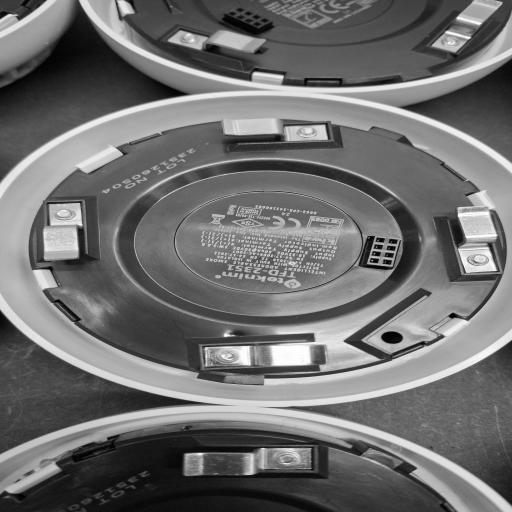konnektor: (354, 230, 412, 282)
yaysiz: (186, 327, 348, 380), (152, 442, 332, 484), (201, 114, 349, 156), (442, 201, 512, 285), (32, 197, 102, 277), (163, 26, 282, 68)
